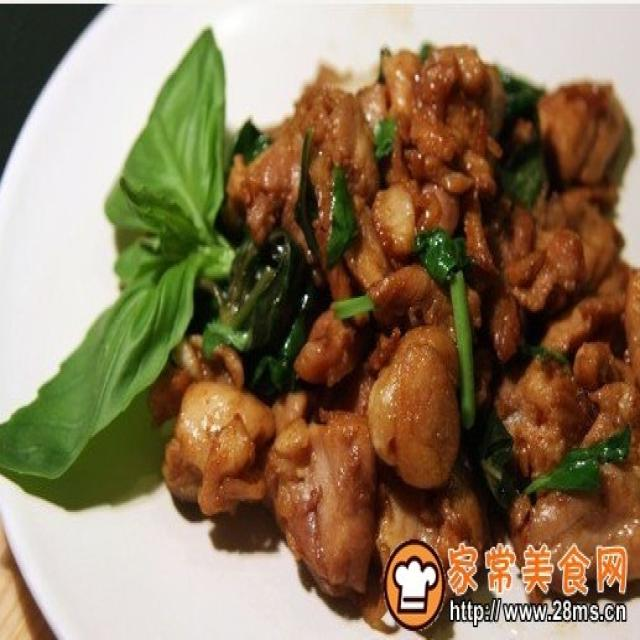鸡肉料理 含炸鸡: (53, 39, 619, 626)
